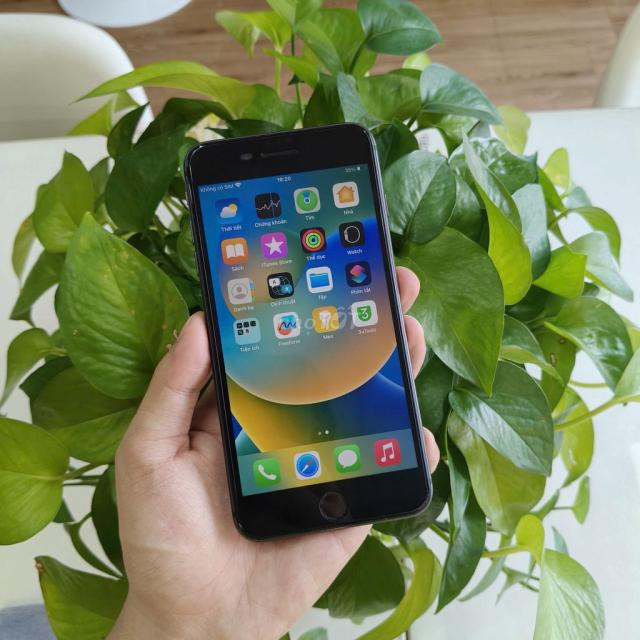gen_7_8: (179, 118, 437, 542)
